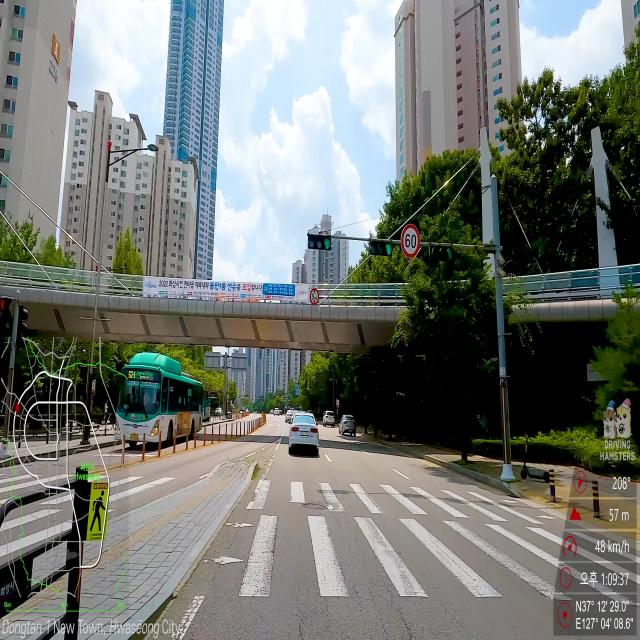Green Light: (324, 237, 331, 250), (386, 243, 392, 255), (447, 248, 452, 260)
